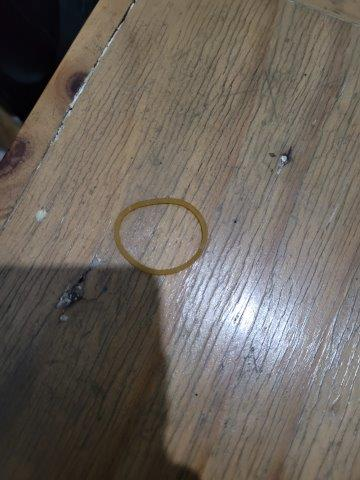karet: (112, 197, 208, 275)
